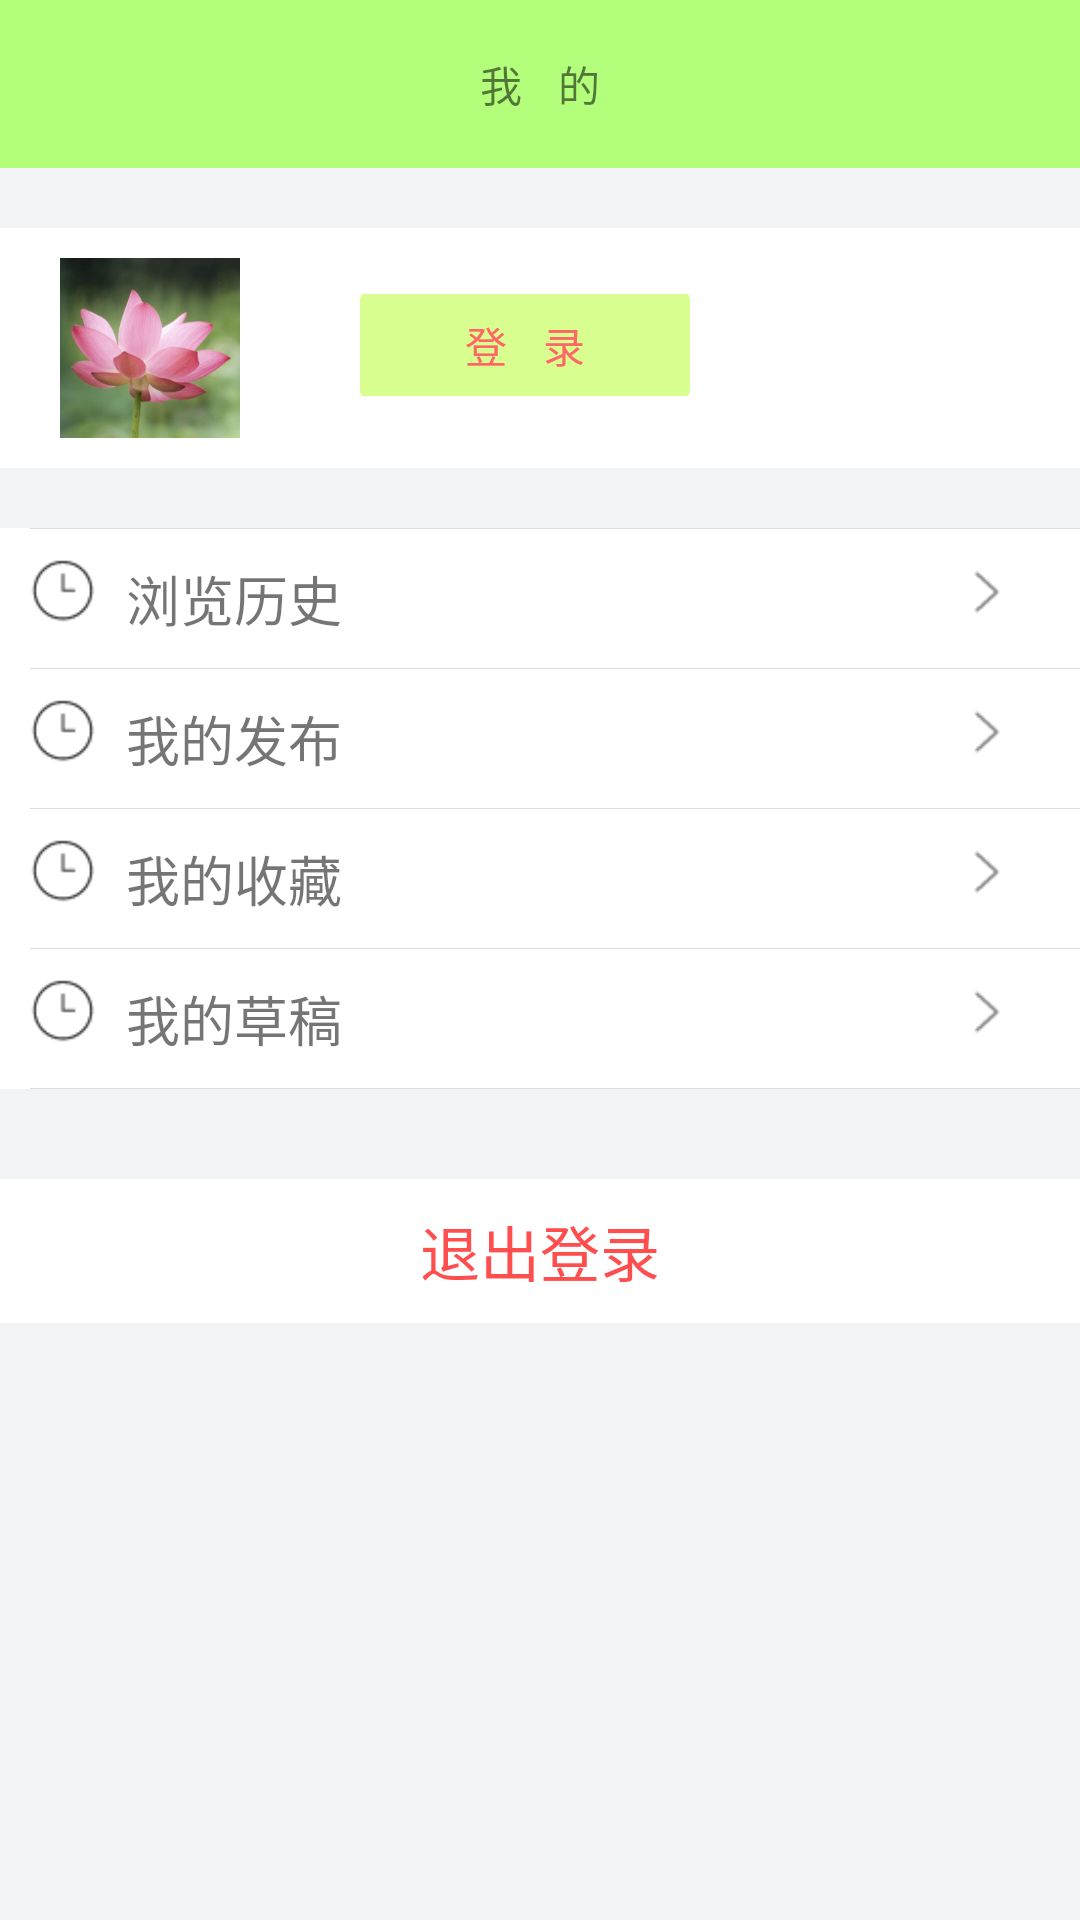

Where to tap for icons on this 1080 x 1920 app screen, as (x,y):
history: (63,590), (63,730), (63,870), (63,1010)
right: (987,592), (987,732), (987,872), (987,1012)
